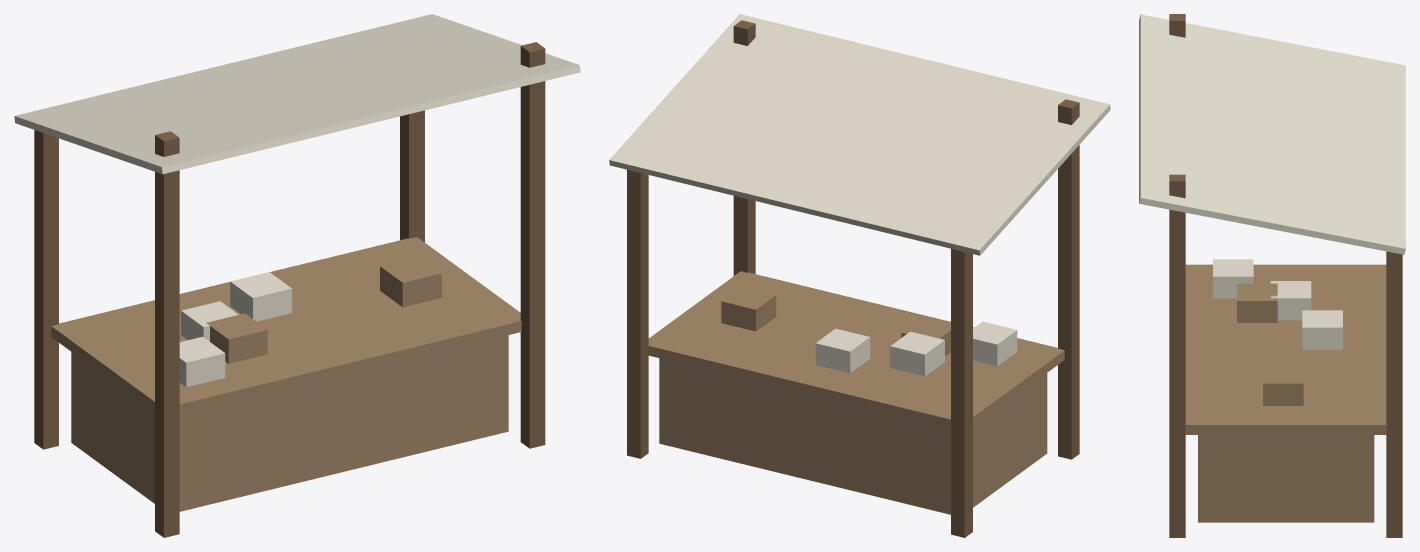
The model's file is Stall_Cream.fbx.
3 views of the same model, side by side, from view 1: azimuth 30°, elevation 25°; view 2: azimuth 150°, elevation 25°; view 3: azimuth 270°, elevation 25° (orthographic). The views are drawn at different scales.
Parts seen in each view (by area): view 1: Stall_Cream; view 2: Stall_Cream; view 3: Stall_Cream.
Boxes of the visible parts, x1,y1,x2,y2 form: Stall_Cream: (14, 14, 580, 537); Stall_Cream: (609, 14, 1110, 537); Stall_Cream: (1139, 14, 1405, 537).
Size of the model in its own units: 3.2 by 1.97 by 2.9.
